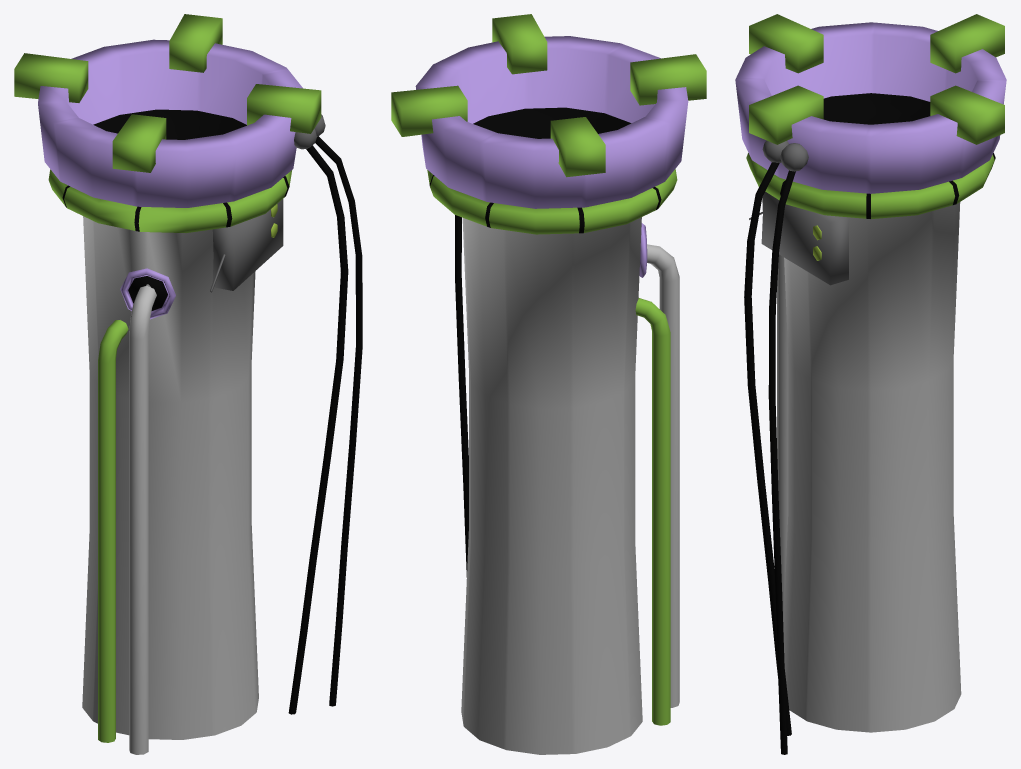
The picture shows the model from 3 angles, left to right: view 1: azimuth 30°, elevation 25°; view 2: azimuth 150°, elevation 25°; view 3: azimuth 270°, elevation 25°; orthographic projection. The views are drawn at different scales.
Parts seen in each view (by area): view 1: Cylinder; view 2: Cylinder; view 3: Cylinder.
Part boxes in pixels (x1,y1,x2,y2): Cylinder: [14, 14, 362, 754]; Cylinder: [391, 14, 706, 754]; Cylinder: [735, 14, 1006, 754].
Bounding box in the file's own units: 253 × 579 × 226.
